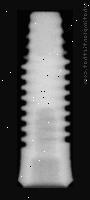BioHorizons: (17, 10, 73, 187)
